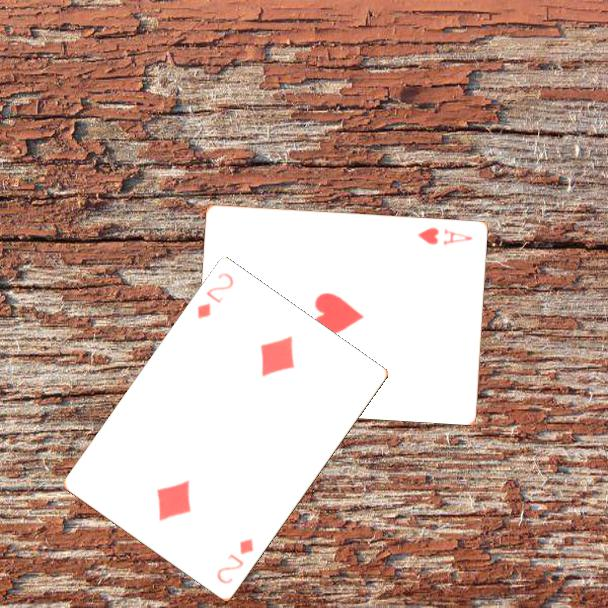d02: (213, 535, 257, 587), (194, 269, 237, 322)
h01: (414, 224, 476, 248)
